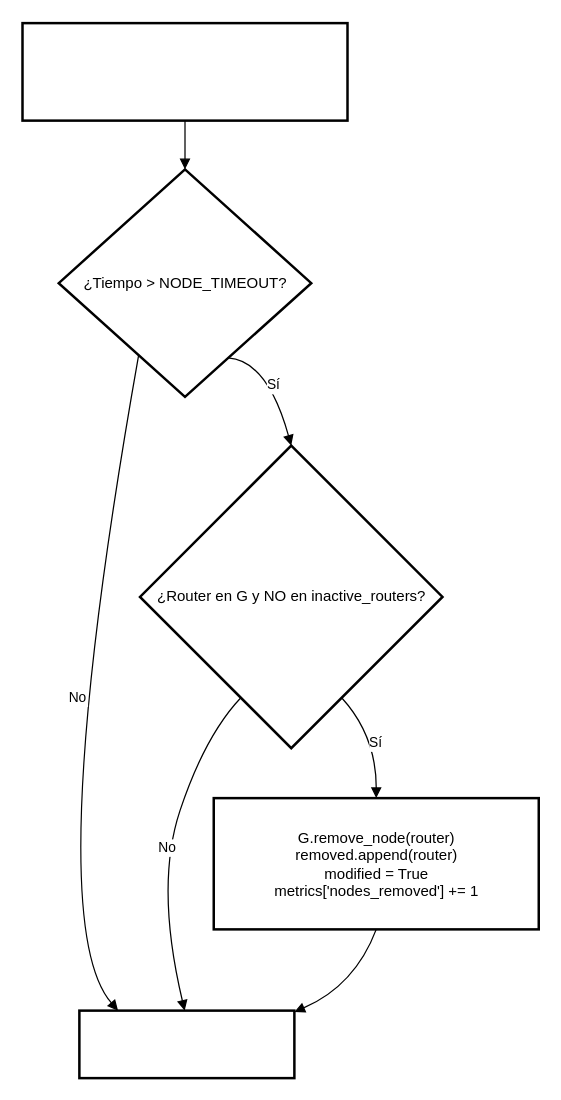
The diagram is 561 pixels wide and 1100 high, and some of its shapes have lost their labels. Here are the shapes that lost their labels. From the top down, the centre of each, then its label:
the point at 184,71: Para cada router en router_state
the point at 186,1044: Continuar bucle
